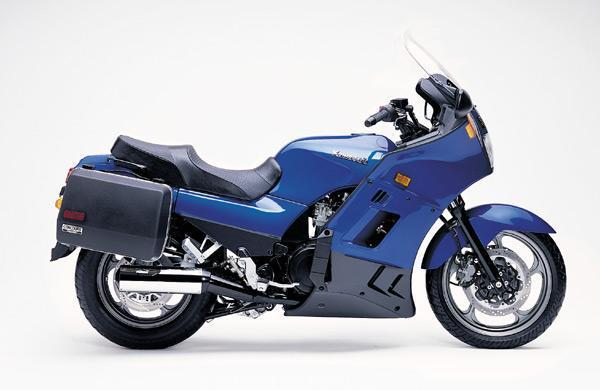motorcycle: (40, 25, 576, 367)
